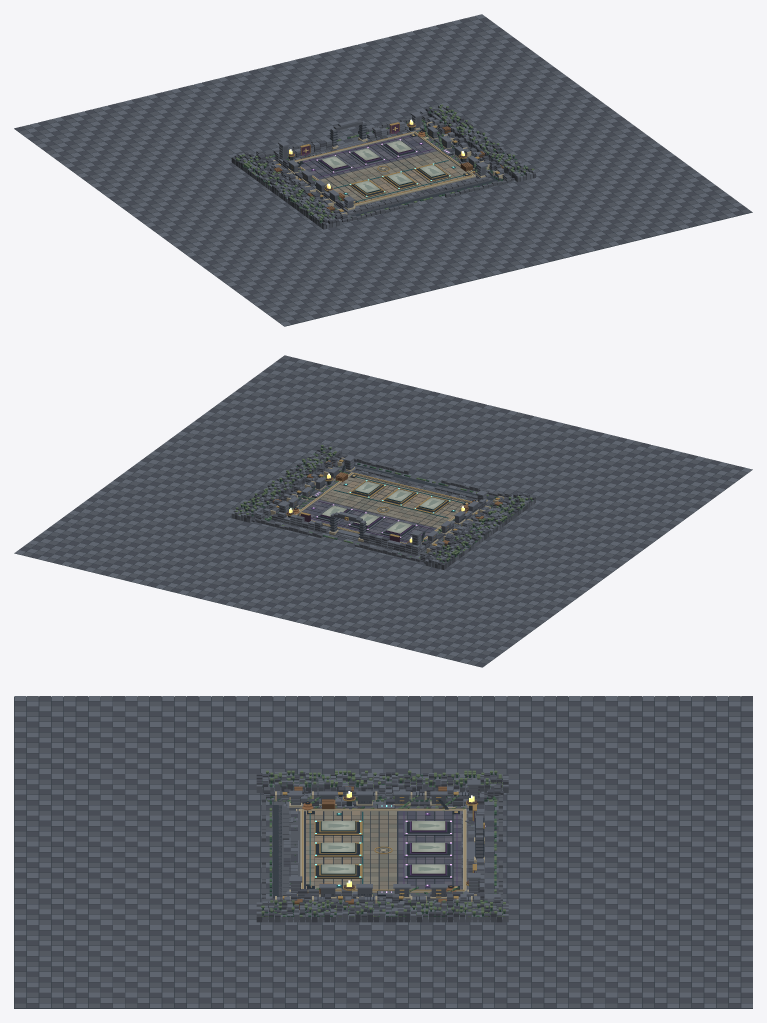
The model's file is 万象战场-遗迹战盘.glb.
The picture shows the model from 3 angles, top to bottom: view 1: azimuth 30°, elevation 25°; view 2: azimuth 150°, elevation 25°; view 3: azimuth 270°, elevation 25°; orthographic projection. The views are drawn at different scales.
Visible parts, largest first — view 1: 24_Continuous_Outer_Floor_rock3, 24_Continuous_Outer_Floor_rock2, 24_Continuous_Outer_Floor_rock, 24_Outer_Floor_Mortar, 02_Central_Board_Tiles, 31_Outer_Retaining_Walls, 27_Outer_Courtyard_Collapsed_Masonry, 32_Outer_Wall_Climbing_Greenery, 11_Broken_Perimeter_Walls, 03_Board_Inlaid_Border, 10_Perimeter_Cobblestones, 19_Carved_Wall_Panels (+3 smaller); view 2: 24_Continuous_Outer_Floor_rock, 24_Continuous_Outer_Floor_rock3, 24_Continuous_Outer_Floor_rock2, 24_Outer_Floor_Mortar, 02_Central_Board_Tiles, 31_Outer_Retaining_Walls, 27_Outer_Courtyard_Collapsed_Masonry, 11_Broken_Perimeter_Walls, 32_Outer_Wall_Climbing_Greenery, 19_Carved_Wall_Panels, 03_Board_Inlaid_Border, 10_Perimeter_Cobblestones (+2 smaller); view 3: 24_Continuous_Outer_Floor_rock3, 24_Continuous_Outer_Floor_rock2, 24_Continuous_Outer_Floor_rock, 24_Outer_Floor_Mortar, 31_Outer_Retaining_Walls, 02_Central_Board_Tiles, 27_Outer_Courtyard_Collapsed_Masonry, 32_Outer_Wall_Climbing_Greenery, 11_Broken_Perimeter_Walls, 19_Carved_Wall_Panels, 10_Perimeter_Cobblestones, 03_Board_Inlaid_Border (+5 smaller).
Boxes of the visible parts, x1,y1,x2,y2 form: 24_Continuous_Outer_Floor_rock3: (23, 14, 742, 326); 24_Continuous_Outer_Floor_rock2: (19, 16, 751, 322); 24_Continuous_Outer_Floor_rock: (14, 17, 747, 324); 24_Outer_Floor_Mortar: (14, 16, 752, 326); 02_Central_Board_Tiles: (296, 133, 470, 203); 31_Outer_Retaining_Walls: (231, 105, 535, 229); 27_Outer_Courtyard_Collapsed_Masonry: (256, 110, 514, 222); 32_Outer_Wall_Climbing_Greenery: (234, 104, 534, 223); 11_Broken_Perimeter_Walls: (275, 119, 490, 213); 03_Board_Inlaid_Border: (294, 131, 475, 206); 10_Perimeter_Cobblestones: (293, 130, 490, 213); 19_Carved_Wall_Panels: (287, 126, 479, 203); 24_Continuous_Outer_Floor_rock: (19, 357, 744, 667); 24_Continuous_Outer_Floor_rock3: (15, 359, 752, 663); 24_Continuous_Outer_Floor_rock2: (22, 355, 747, 665); 24_Outer_Floor_Mortar: (14, 357, 752, 667); 02_Central_Board_Tiles: (298, 474, 470, 543); 31_Outer_Retaining_Walls: (231, 444, 535, 569); 27_Outer_Courtyard_Collapsed_Masonry: (251, 453, 511, 563); 11_Broken_Perimeter_Walls: (272, 464, 490, 554); 32_Outer_Wall_Climbing_Greenery: (235, 445, 532, 563); 19_Carved_Wall_Panels: (287, 467, 479, 544); 03_Board_Inlaid_Border: (295, 472, 471, 543); 10_Perimeter_Cobblestones: (297, 470, 477, 543); 24_Continuous_Outer_Floor_rock3: (14, 696, 752, 1007); 24_Continuous_Outer_Floor_rock2: (14, 696, 752, 1007); 24_Continuous_Outer_Floor_rock: (14, 696, 752, 1007); 24_Outer_Floor_Mortar: (14, 696, 752, 1008); 31_Outer_Retaining_Walls: (256, 772, 508, 922); 02_Central_Board_Tiles: (304, 811, 462, 889); 27_Outer_Courtyard_Collapsed_Masonry: (261, 785, 503, 909); 32_Outer_Wall_Climbing_Greenery: (261, 770, 505, 916); 11_Broken_Perimeter_Walls: (282, 793, 484, 901); 19_Carved_Wall_Panels: (319, 791, 447, 899); 10_Perimeter_Cobblestones: (283, 804, 476, 898); 03_Board_Inlaid_Border: (300, 808, 466, 892).
Size of the model in its own units: 48 by 2.52 by 48.
Materials: 36 (1 with a texture image).
